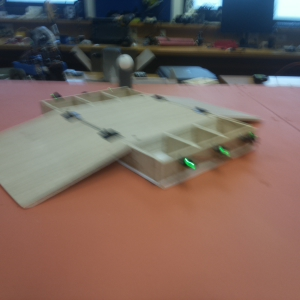obstacle: (113, 53, 137, 83)
side: (136, 120, 262, 183), (37, 85, 142, 108)
slope: (1, 109, 125, 197), (154, 84, 252, 118)
